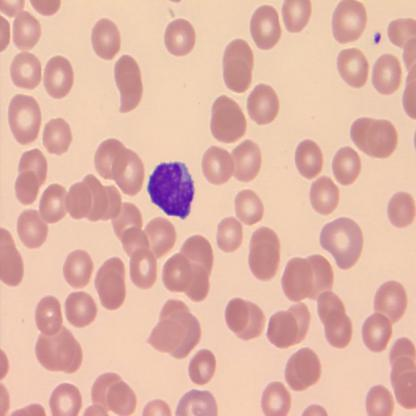Lymphocyte: (146, 159, 195, 222)
